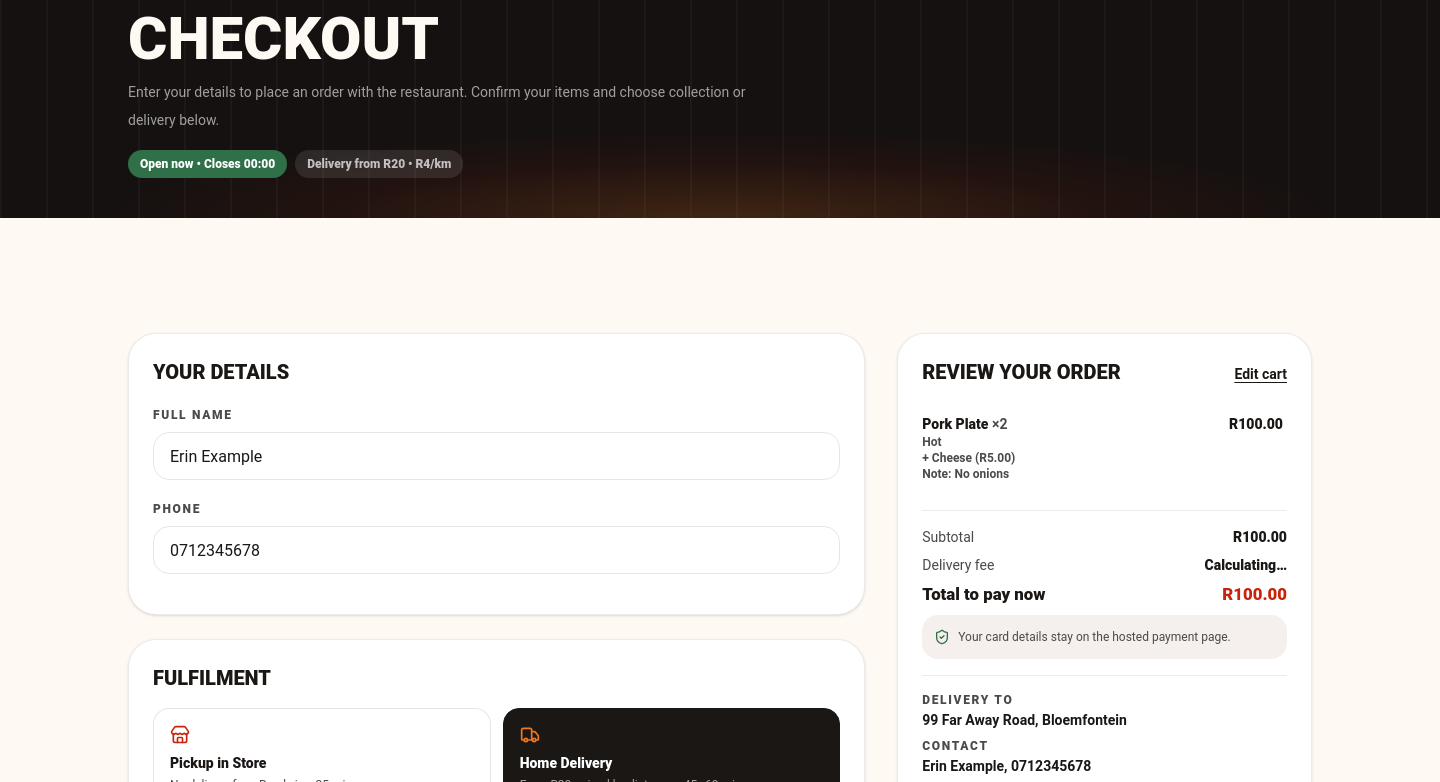
Test: Distance-based delivery fee at checkout › explains unknown addresses and keeps payment blocked
expect the heading "Review your order" is shown: met, box [922,358,1121,386]
Click the text "Home Delivery" at coordinates (566, 763), box [520,755,612,771]
(page scrolled)
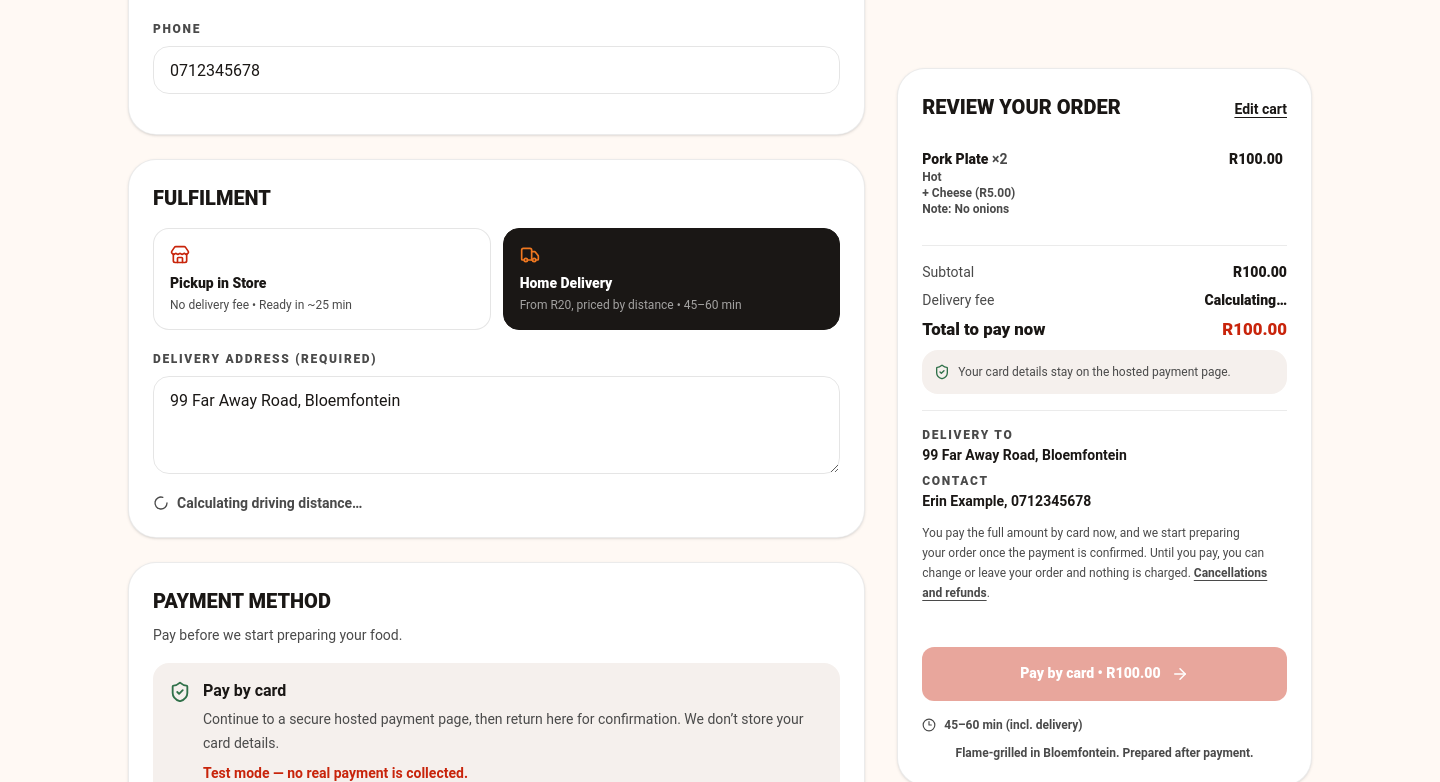
Replace the text in the text box with placeholder "Delivery address (required)" with "qwzxv plkjh nowhere" at coordinates (497, 425), box [153,376,840,474]
Wait 1000 ms
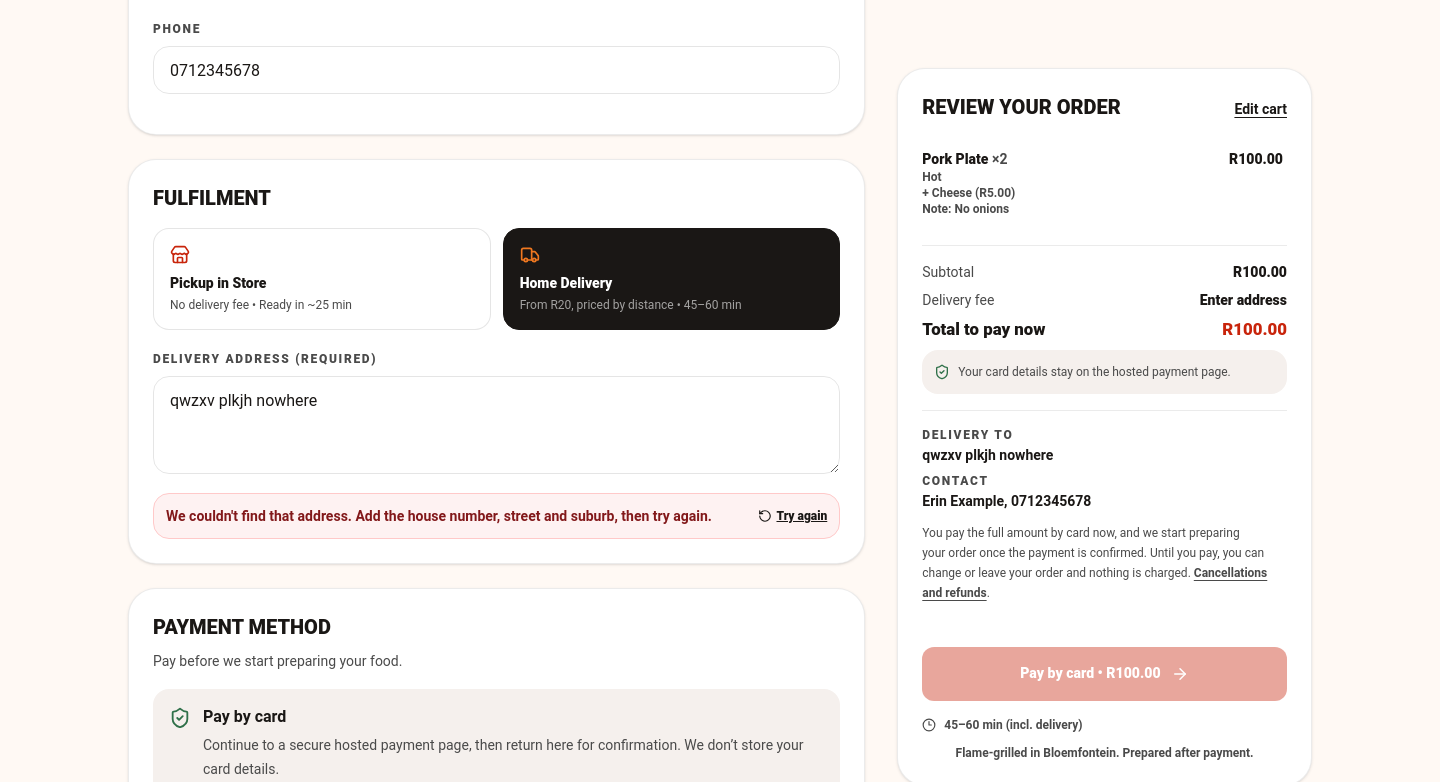
expect the button "Pay by card • R100.00" is disabled: met, box [922,647,1287,701]
expect the text "couldn't find that address" is shown: met, box [166,508,712,524]
